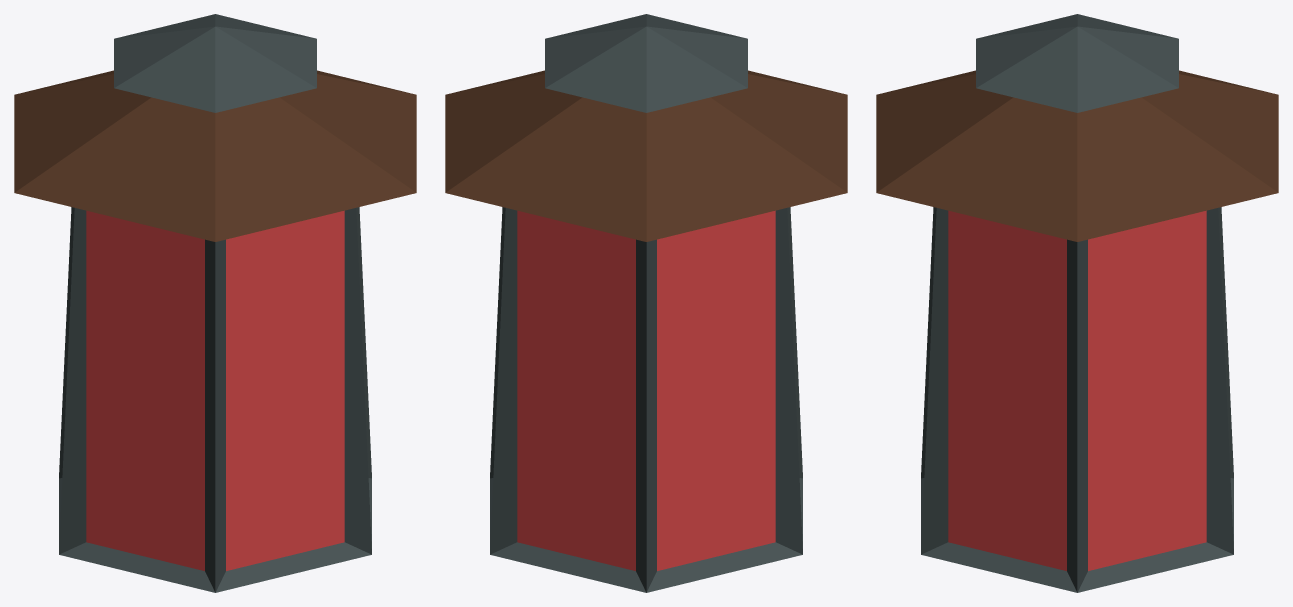
Rendered from Lamp_2_Red.fbx.
3 renders of one model, left to right at view 1: azimuth 30°, elevation 25°; view 2: azimuth 150°, elevation 25°; view 3: azimuth 270°, elevation 25°, orthographic.
Visible parts, largest first — view 1: Lamp_2_Red; view 2: Lamp_2_Red; view 3: Lamp_2_Red.
Boxes of the visible parts, box(x1,y1,x2,y2) form: Lamp_2_Red: box(14, 14, 416, 592); Lamp_2_Red: box(445, 14, 847, 592); Lamp_2_Red: box(876, 14, 1278, 592).
Bounding box in the file's own units: 57.59 × 66.99 × 49.88.
